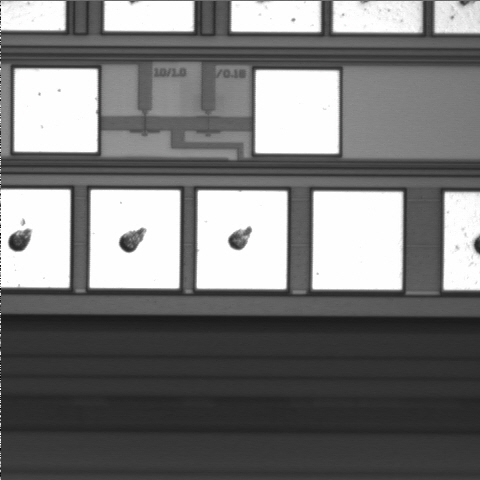pad: (312, 191, 403, 290), (90, 190, 180, 289), (197, 190, 287, 289), (255, 70, 339, 154), (14, 69, 98, 152)
